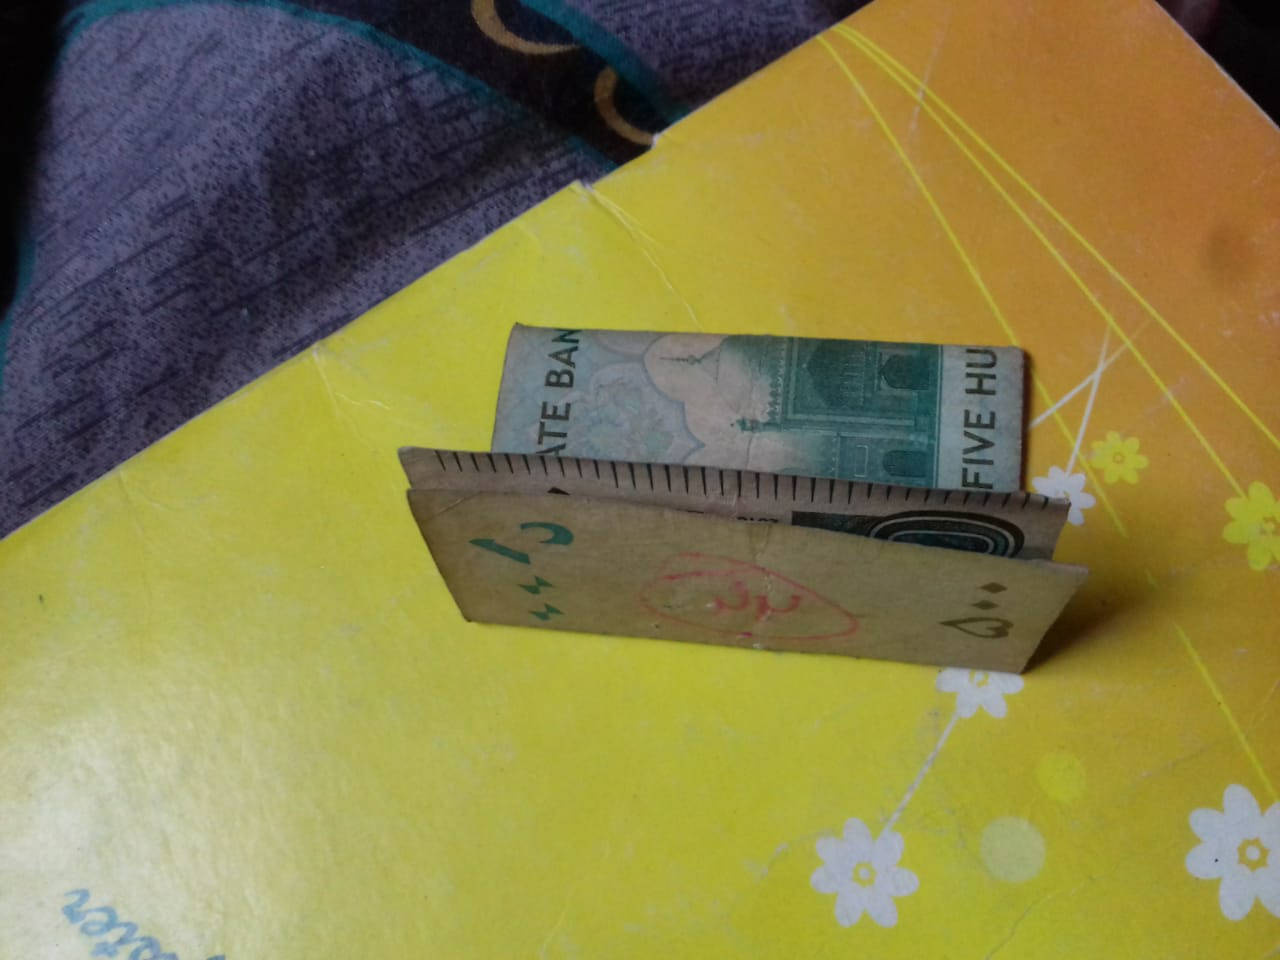500 rupee: (358, 259, 1110, 731)
